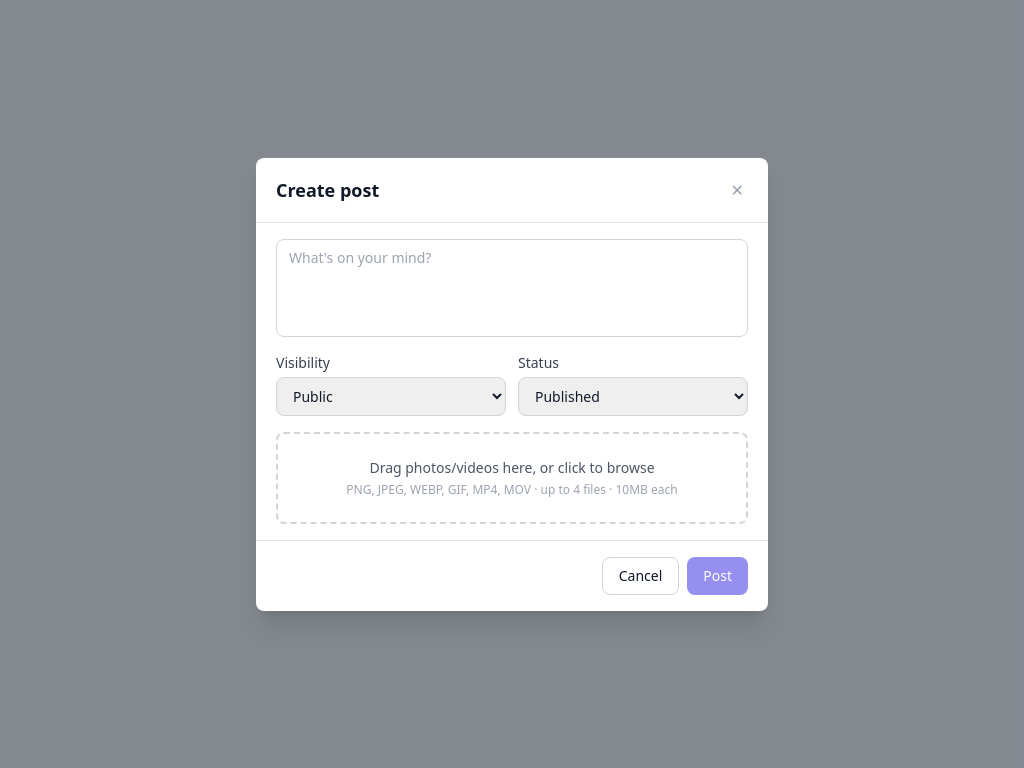
it: PostComposerModal › shows the API error banner and does not close on failure
The width and height of the screenshot is (1024, 768).
Type "hi" into the text box named "Content".
click(512, 288); type("hi")  # box [276,238,748,336]
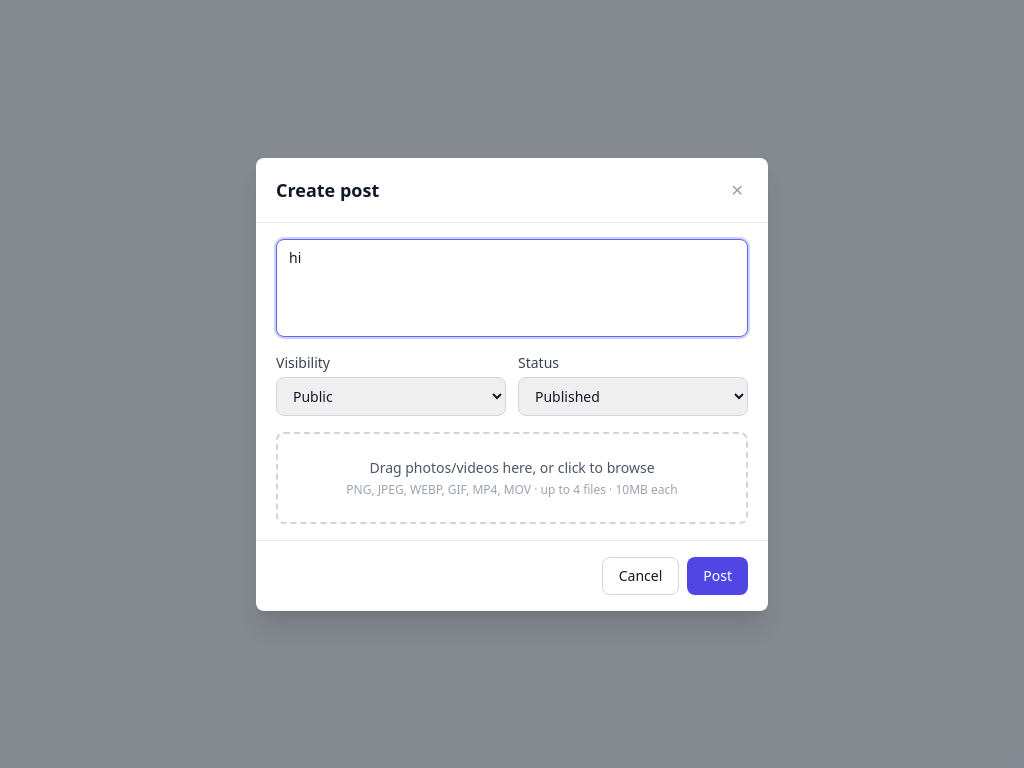
Click the button "Post".
click(718, 576)  # box [687,556,748,594]
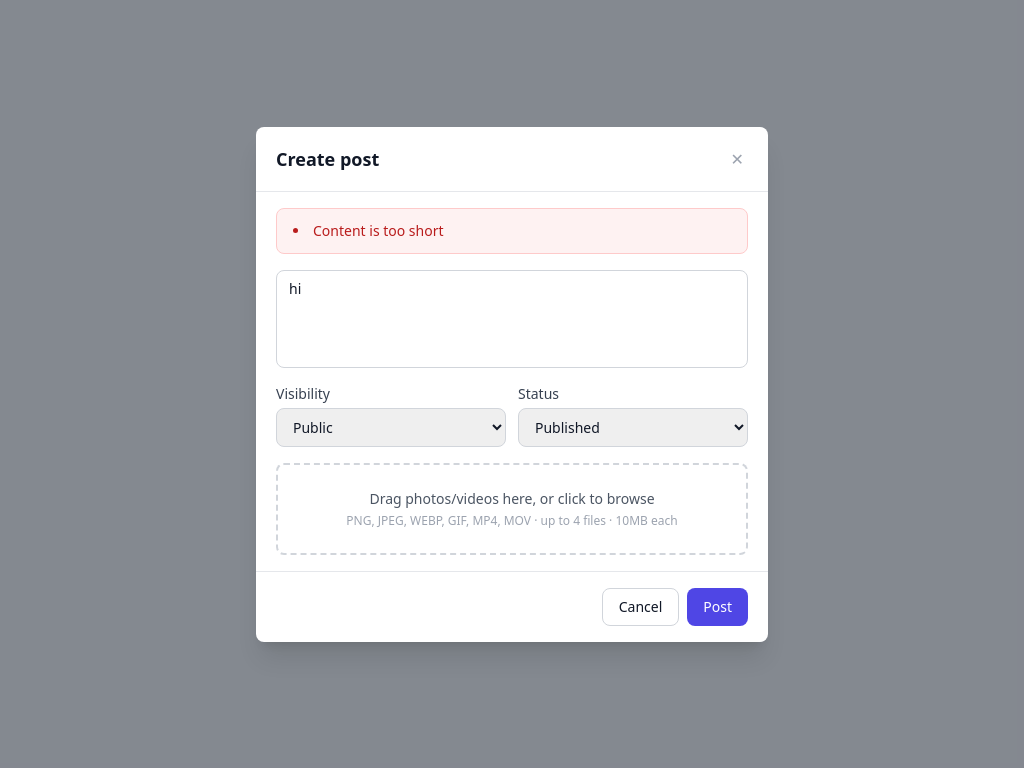
Check: the list item "Content is too short" is shown, box [313,220,444,240]
